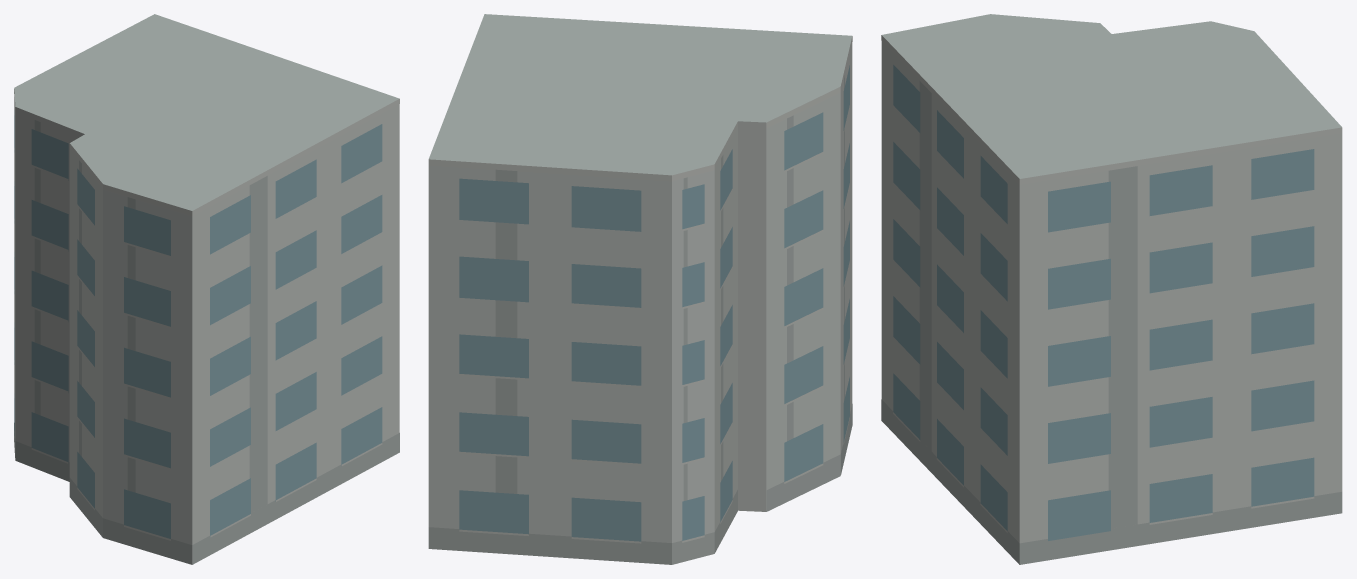
File: survey-upis-32849645.glb
3 views of the same model, side by side, from view 1: azimuth 30°, elevation 25°; view 2: azimuth 150°, elevation 25°; view 3: azimuth 270°, elevation 25° (orthographic). The views are drawn at different scales.
Parts seen in each view (by area): view 1: survey-upis-32849645.tmp; view 2: survey-upis-32849645.tmp; view 3: survey-upis-32849645.tmp.
Boxes of the visible parts, left/top/right/bottom form: survey-upis-32849645.tmp: left=14, top=14, right=399, bottom=564; survey-upis-32849645.tmp: left=428, top=14, right=852, bottom=564; survey-upis-32849645.tmp: left=881, top=14, right=1342, bottom=564.
Size of the model in its own units: 14.59 by 15.9 by 17.22.
